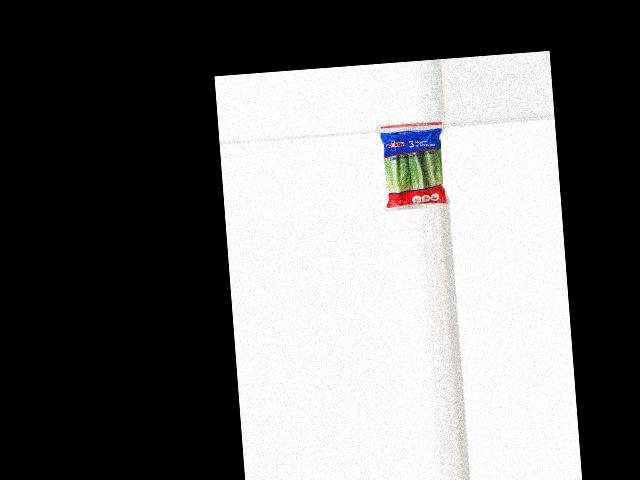lettuce: (379, 126, 448, 211)
